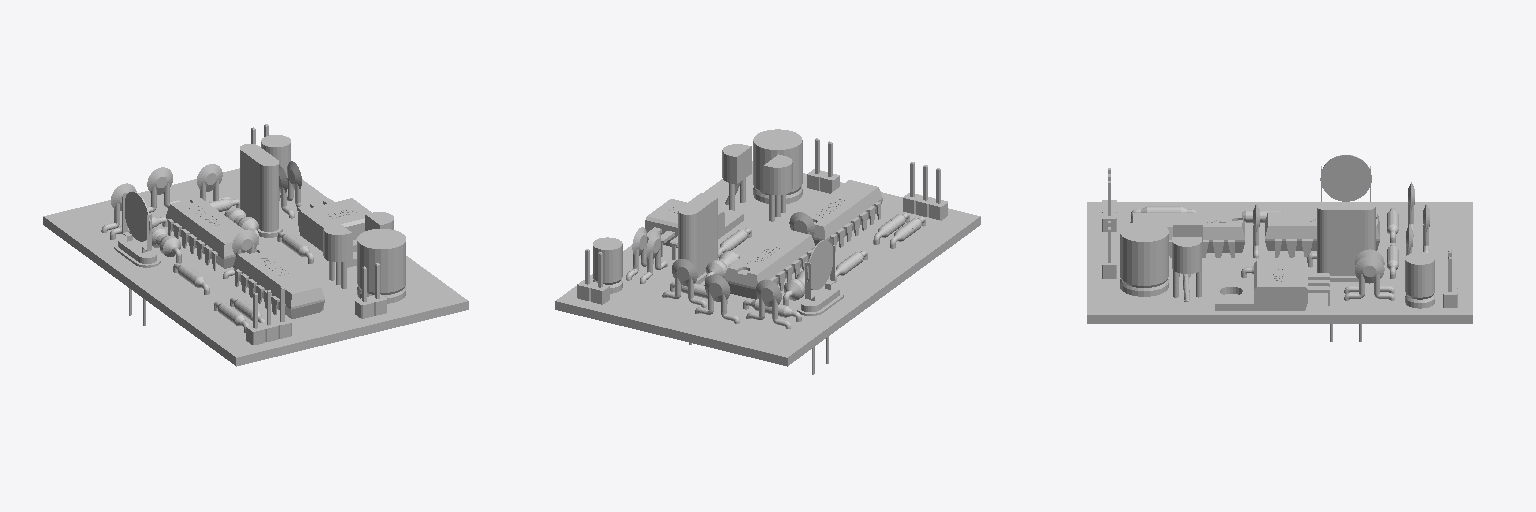
The model's file is 3dmodel.obj.
3 views of the same model, side by side, from view 1: azimuth 30°, elevation 25°; view 2: azimuth 150°, elevation 25°; view 3: azimuth 270°, elevation 25° (orthographic).
Visible parts, largest first — view 1: PCB_001, DIL14_001, DIL14_002, Capacitor_10mm_001, Can_002, TO220_001, Holder_001, tr_body_001, Crystal_001, Capacitor_8mm_001, Small_Cap_003, Small_Cap_002 (+1 smaller); view 2: PCB_001, DIL14_002, DIL14_001, Can_002, Capacitor_10mm_001, TO220_001, Holder_001, Capacitor_8mm_001, tr_body_002, tr_body_001, Crystal_001, Small_Cap_001 (+2 smaller); view 3: PCB_001, TO220_001, Can_002, Capacitor_10mm_001, DIL14_001, DIL14_002, Crystal_001, Capacitor_8mm_001, tr_body_002, Small_Cap_006, tr_body_001.
Boxes of the visible parts, <box> form: PCB_001: <box>43,168,468,366</box>; DIL14_001: <box>233,247,324,318</box>; DIL14_002: <box>166,197,257,270</box>; Capacitor_10mm_001: <box>357,229,405,303</box>; Can_002: <box>240,144,282,235</box>; TO220_001: <box>297,198,371,267</box>; Holder_001: <box>114,197,160,325</box>; tr_body_001: <box>323,222,352,262</box>; Crystal_001: <box>125,191,150,241</box>; Capacitor_8mm_001: <box>261,135,290,179</box>; Small_Cap_003: <box>147,167,172,202</box>; Small_Cap_002: <box>197,164,222,199</box>; PCB_001: <box>555,161,980,366</box>; DIL14_002: <box>724,228,814,299</box>; DIL14_001: <box>805,180,882,251</box>; Can_002: <box>678,192,718,282</box>; Capacitor_10mm_001: <box>753,129,802,203</box>; TO220_001: <box>645,199,743,259</box>; Holder_001: <box>797,245,843,374</box>; Capacitor_8mm_001: <box>593,237,622,293</box>; tr_body_002: <box>722,144,751,184</box>; tr_body_001: <box>763,154,792,194</box>; Crystal_001: <box>807,240,832,289</box>; Small_Cap_001: <box>756,279,781,314</box>; PCB_001: <box>1087,202,1472,323</box>; TO220_001: <box>1215,261,1329,310</box>; Can_002: <box>1313,202,1375,279</box>; Capacitor_10mm_001: <box>1120,221,1168,296</box>; DIL14_001: <box>1130,213,1244,257</box>; DIL14_002: <box>1265,212,1379,257</box>; Crystal_001: <box>1320,155,1371,201</box>; Capacitor_8mm_001: <box>1405,252,1434,308</box>; tr_body_002: <box>1172,237,1201,273</box>; Small_Cap_006: <box>1355,256,1384,289</box>; tr_body_001: <box>1173,216,1202,251</box>.
Bounding box in the file's own units: 44.5 × 24.8 × 64.1.